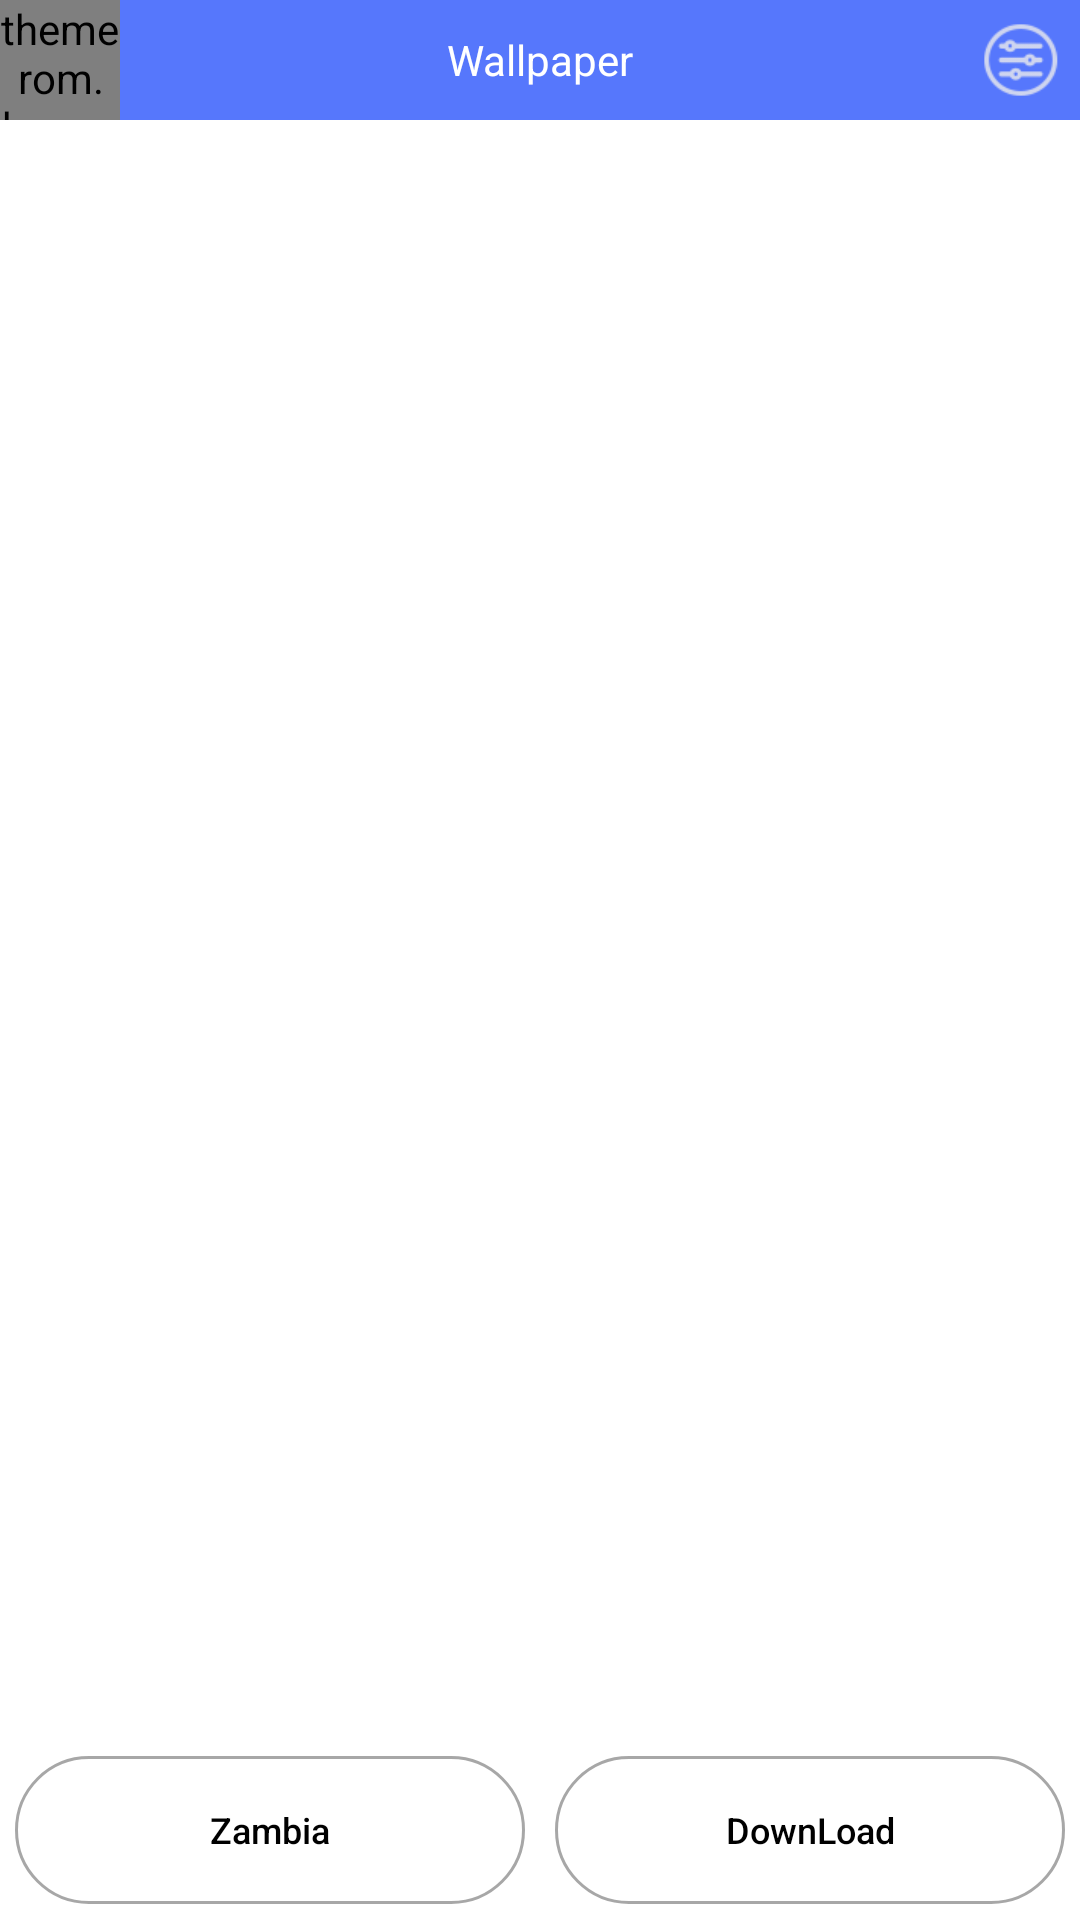

Icons on this 1080 x 1920 Android screen, each with the point to tap as point (x, y):
set: point (1021, 60)
